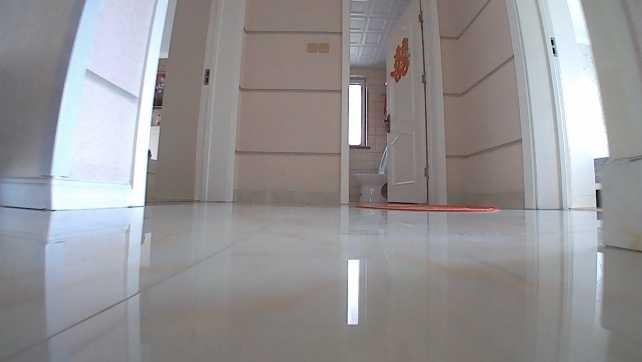blanket: (353, 200, 501, 214)
door_anno: (381, 0, 446, 205)
toilet: (353, 145, 391, 204)
